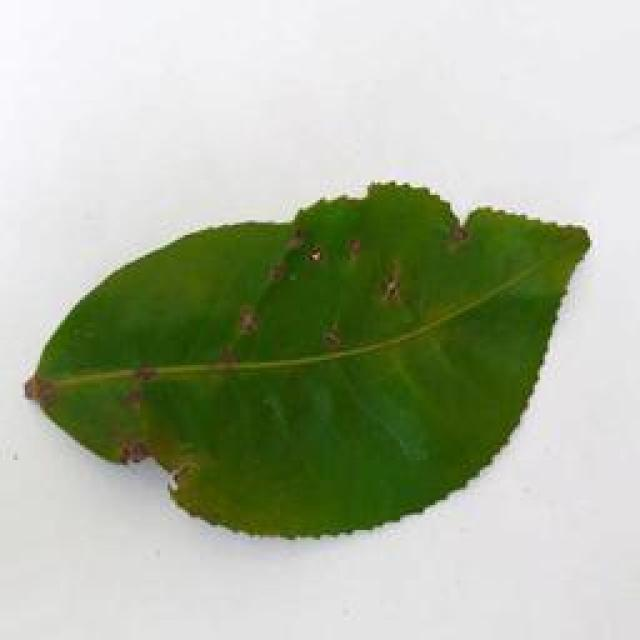Helopeltis: (18, 178, 617, 546)
